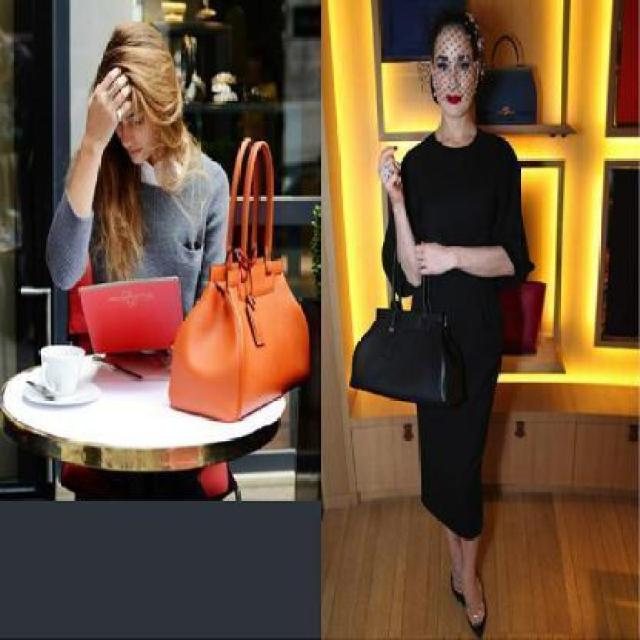face_nomask: (420, 46, 483, 109)
hand_noglove: (84, 66, 130, 146), (414, 238, 454, 277), (378, 146, 404, 200)
head_nohelmet: (424, 18, 488, 52)
person: (362, 8, 564, 629), (43, 25, 260, 500)
